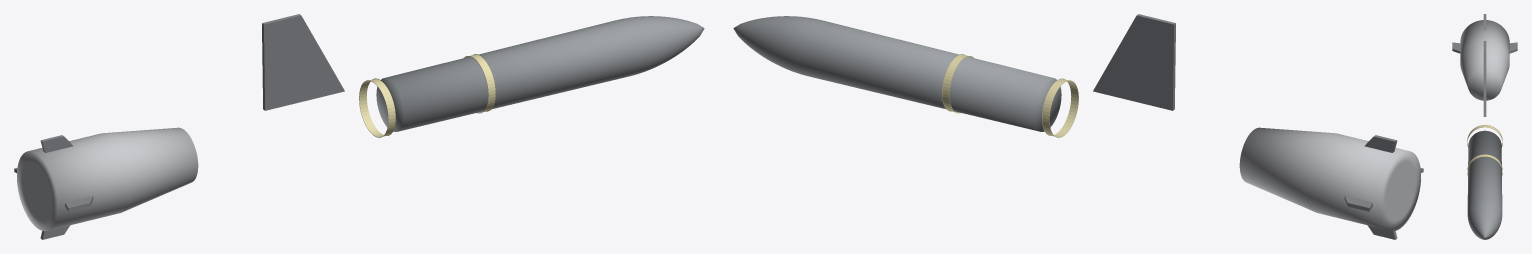
Rendered from RU_STRAT_Meteorit_LOD0.fbx.
3 renders of one model, left to right at view 1: azimuth 30°, elevation 25°; view 2: azimuth 150°, elevation 25°; view 3: azimuth 270°, elevation 25°, orthographic. The views are drawn at different scales.
Visible parts, largest first — view 1: WPN_RU_STRAT_Meteorit_LOD0_Body, WPN_RU_STRAT_Meteorit_LOD0_Tail, WPN_RU_STRAT_Meteorit_LOD0_Wings, WPN_RU_STRAT_Meteorit_LOD0_Marking, WPN_RU_STRAT_Meteorit_LOD0_Fins; view 2: WPN_RU_STRAT_Meteorit_LOD0_Body, WPN_RU_STRAT_Meteorit_LOD0_Tail, WPN_RU_STRAT_Meteorit_LOD0_Wings, WPN_RU_STRAT_Meteorit_LOD0_Marking, WPN_RU_STRAT_Meteorit_LOD0_Fins; view 3: WPN_RU_STRAT_Meteorit_LOD0_Body, WPN_RU_STRAT_Meteorit_LOD0_Tail, WPN_RU_STRAT_Meteorit_LOD0_Wings, WPN_RU_STRAT_Meteorit_LOD0_Marking, WPN_RU_STRAT_Meteorit_LOD0_Fins.
Boxes of the visible parts, x1,y1,x2,y2 form: WPN_RU_STRAT_Meteorit_LOD0_Body: (376, 16, 704, 131); WPN_RU_STRAT_Meteorit_LOD0_Tail: (17, 127, 198, 231); WPN_RU_STRAT_Meteorit_LOD0_Wings: (262, 14, 344, 110); WPN_RU_STRAT_Meteorit_LOD0_Marking: (359, 54, 495, 137); WPN_RU_STRAT_Meteorit_LOD0_Fins: (14, 135, 93, 239); WPN_RU_STRAT_Meteorit_LOD0_Body: (733, 16, 1061, 131); WPN_RU_STRAT_Meteorit_LOD0_Tail: (1239, 127, 1420, 231); WPN_RU_STRAT_Meteorit_LOD0_Wings: (1093, 14, 1175, 110); WPN_RU_STRAT_Meteorit_LOD0_Marking: (942, 54, 1078, 137); WPN_RU_STRAT_Meteorit_LOD0_Fins: (1344, 135, 1423, 239); WPN_RU_STRAT_Meteorit_LOD0_Body: (1467, 130, 1502, 239); WPN_RU_STRAT_Meteorit_LOD0_Tail: (1460, 20, 1509, 100); WPN_RU_STRAT_Meteorit_LOD0_Wings: (1483, 41, 1486, 116); WPN_RU_STRAT_Meteorit_LOD0_Marking: (1467, 125, 1502, 175); WPN_RU_STRAT_Meteorit_LOD0_Fins: (1452, 14, 1517, 53).
Bounding box in the file's own units: 12 × 1.69 × 2.77.
